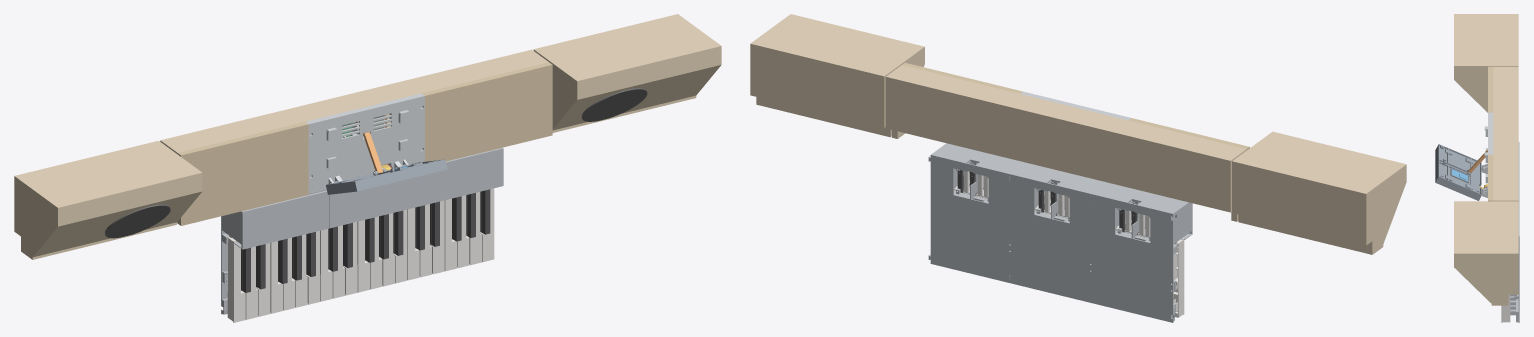
Rendered from touch_B1_use.glb.
3 views of the same model, side by side, from view 1: azimuth 30°, elevation 25°; view 2: azimuth 150°, elevation 25°; view 3: azimuth 270°, elevation 25° (orthographic). The views are drawn at different scales.
Parts seen in each view (by area): view 1: ctx__L2-POD-L, ctx__L2-POD-R, ctx__L2-LID-R, ctx__L2-LID-L, use__TS-LID, ctx__L2-CU-BOX, ctx__O3_백건, ctx__O3_프레임, ctx__O5_백건, ctx__O4_백건, ctx__O5_프레임, ctx__O4_프레임 (+6 smaller); view 2: ctx__L2-CU-BOX, ctx__L2-POD-L, ctx__L2-POD-R, ctx__O3_프레임, ctx__O4_프레임, ctx__O5_프레임, ctx__O3_백건, ctx__L2-LID-L; view 3: ctx__L2-POD-R, ctx__L2-POD-L, ctx__L2-CU-BOX, use__TS-CRADLE, use__TS-LID, ctx__O5_프레임, ctx__L2-LID-R, ctx__L2-LID-L, ctx__O5_백건, use__TS-LEG, use__TS-WINCOVER.
Boxes of the visible parts, left/top/right/bottom form: ctx__L2-POD-L: left=14, top=140, right=202, bottom=259; ctx__L2-POD-R: left=533, top=14, right=721, bottom=132; ctx__L2-LID-R: left=422, top=62, right=552, bottom=161; ctx__L2-LID-L: left=177, top=122, right=308, bottom=225; use__TS-LID: left=305, top=93, right=424, bottom=194; ctx__L2-CU-BOX: left=160, top=49, right=548, bottom=223; ctx__O3_백건: left=227, top=231, right=320, bottom=322; ctx__O3_프레임: left=221, top=190, right=329, bottom=314; ctx__O5_백건: left=407, top=188, right=494, bottom=280; ctx__O4_백건: left=320, top=209, right=407, bottom=301; ctx__O5_프레임: left=416, top=147, right=503, bottom=206; ctx__O4_프레임: left=329, top=177, right=416, bottom=228; ctx__L2-CU-BOX: left=885, top=65, right=1246, bottom=221; ctx__L2-POD-L: left=1232, top=131, right=1406, bottom=254; ctx__L2-POD-R: left=750, top=14, right=924, bottom=137; ctx__O3_프레임: left=1090, top=182, right=1192, bottom=322; ctx__O4_프레임: left=1009, top=163, right=1107, bottom=302; ctx__O5_프레임: left=928, top=143, right=1026, bottom=283; ctx__O3_백건: left=1115, top=210, right=1184, bottom=317; ctx__L2-LID-L: left=1128, top=118, right=1249, bottom=150; ctx__L2-POD-R: left=1454, top=201, right=1518, bottom=305; ctx__L2-POD-L: left=1454, top=14, right=1518, bottom=112; ctx__L2-CU-BOX: left=1493, top=66, right=1518, bottom=201; use__TS-CRADLE: left=1435, top=144, right=1484, bottom=200; use__TS-LID: left=1481, top=112, right=1493, bottom=197; ctx__O5_프레임: left=1510, top=204, right=1519, bottom=322; ctx__L2-LID-R: left=1488, top=154, right=1493, bottom=201; ctx__L2-LID-L: left=1488, top=66, right=1493, bottom=112; ctx__O5_백건: left=1501, top=294, right=1510, bottom=322; use__TS-LEG: left=1467, top=149, right=1487, bottom=173; use__TS-WINCOVER: left=1452, top=169, right=1467, bottom=181.
Size of the model in its own units: 1254 by 342 by 186.
